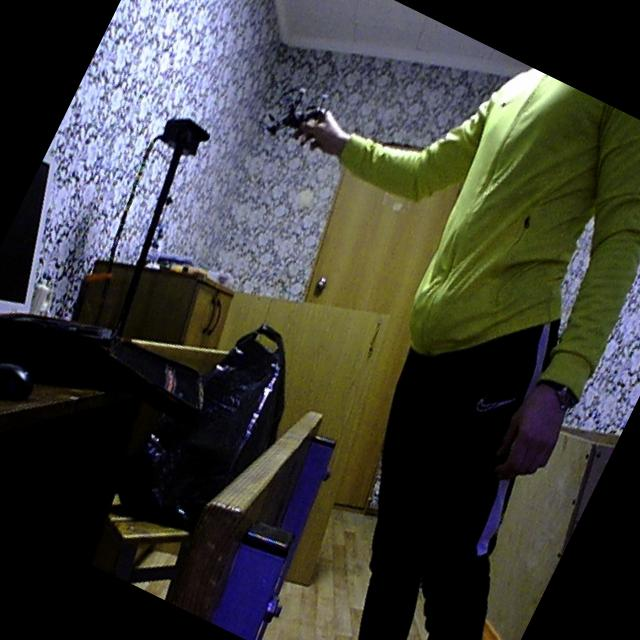drone: (251, 68, 343, 162)
